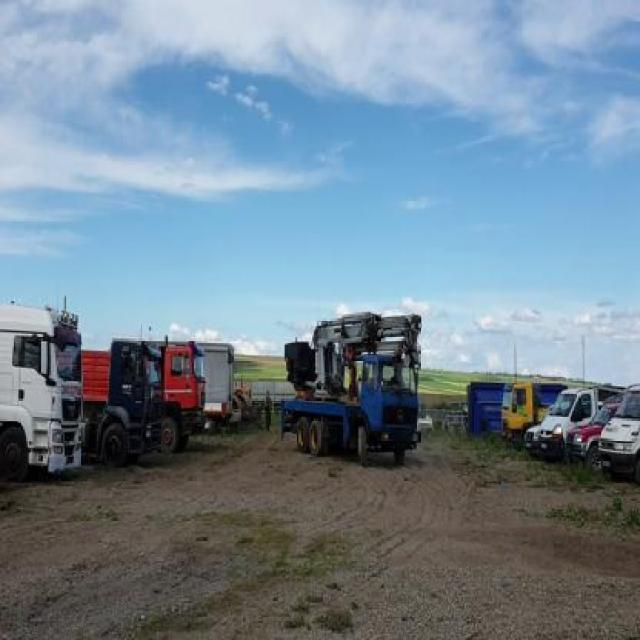Mobile Crane: (285, 310, 423, 465)
